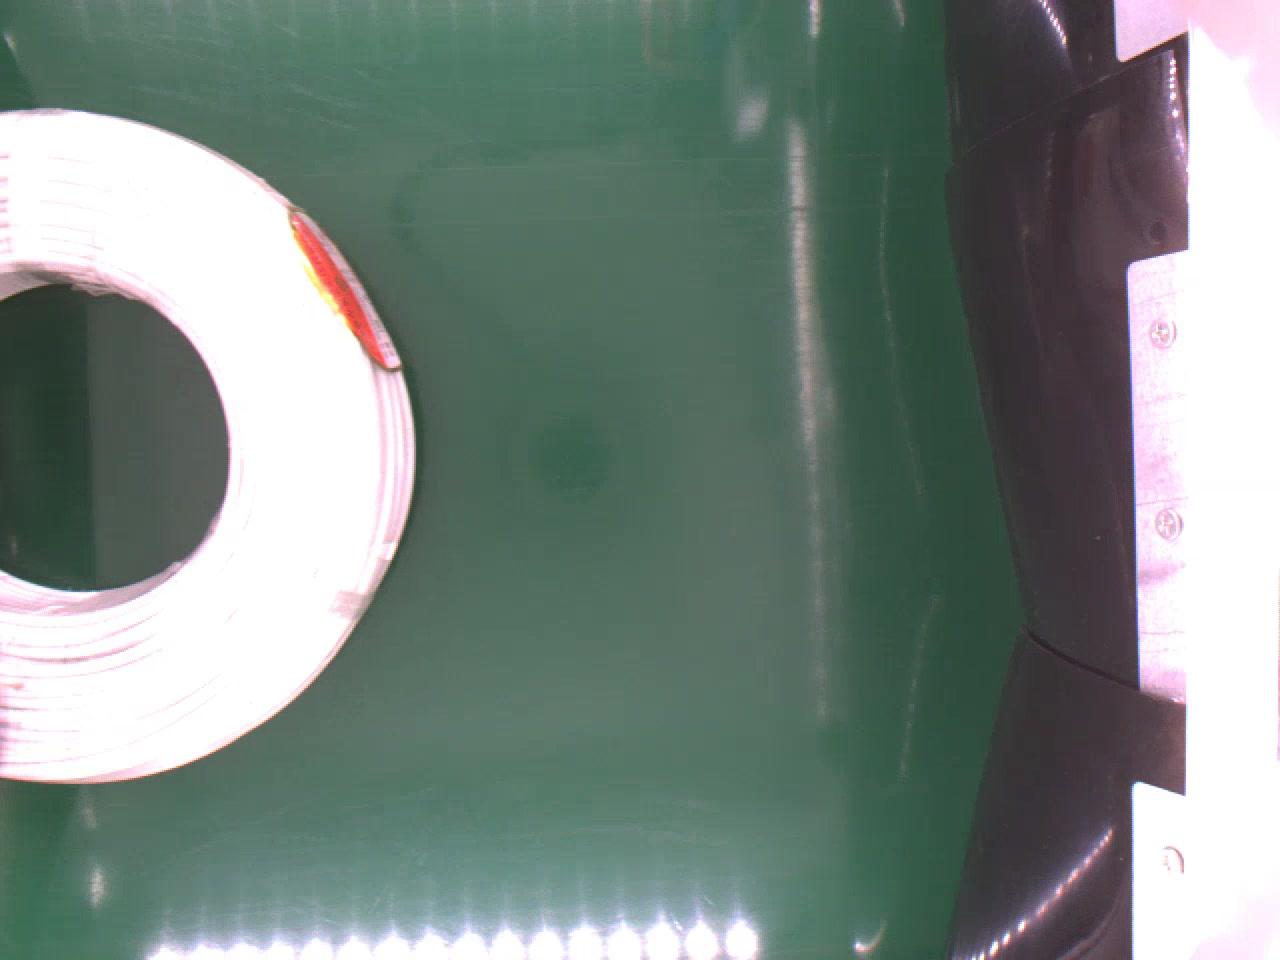white: (0, 103, 418, 789)
